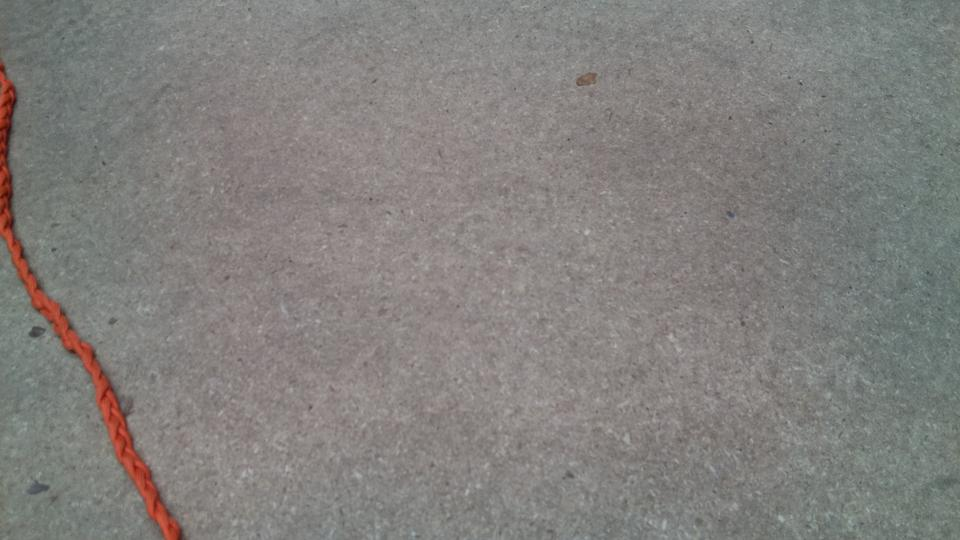rope: (1, 79, 168, 539)
